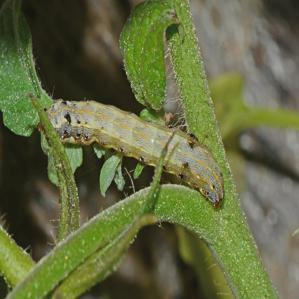Tobacco cutworm: (36, 77, 236, 234)
